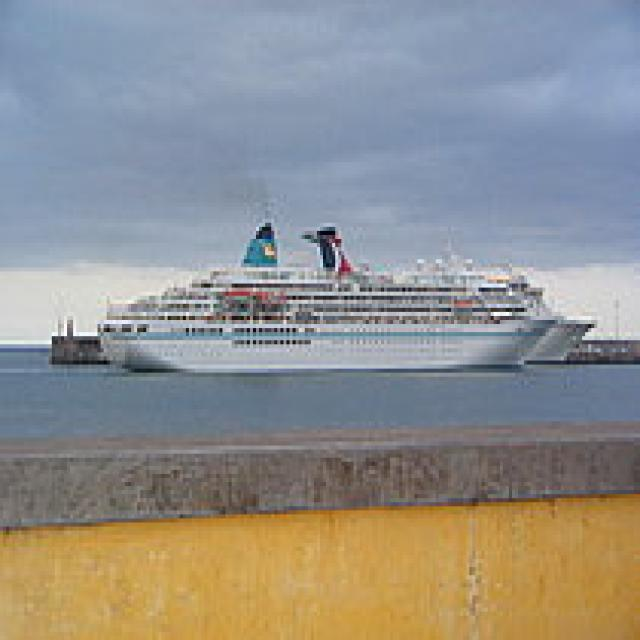Cruise: (95, 215, 558, 372)
